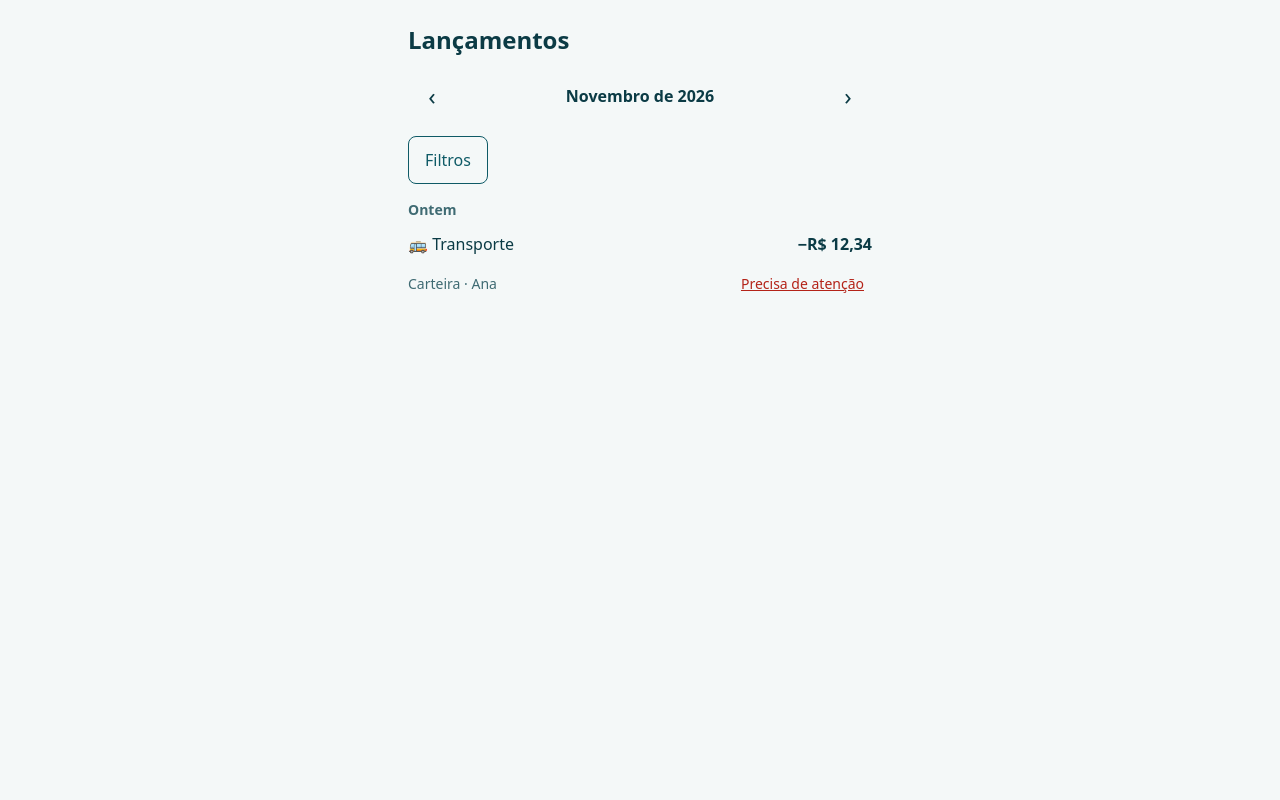
Test: TransactionsPage › discards a refused expense once confirmed
Click the button "Precisa de atenção". click: point(802, 284)
box: [733,260,872,308]
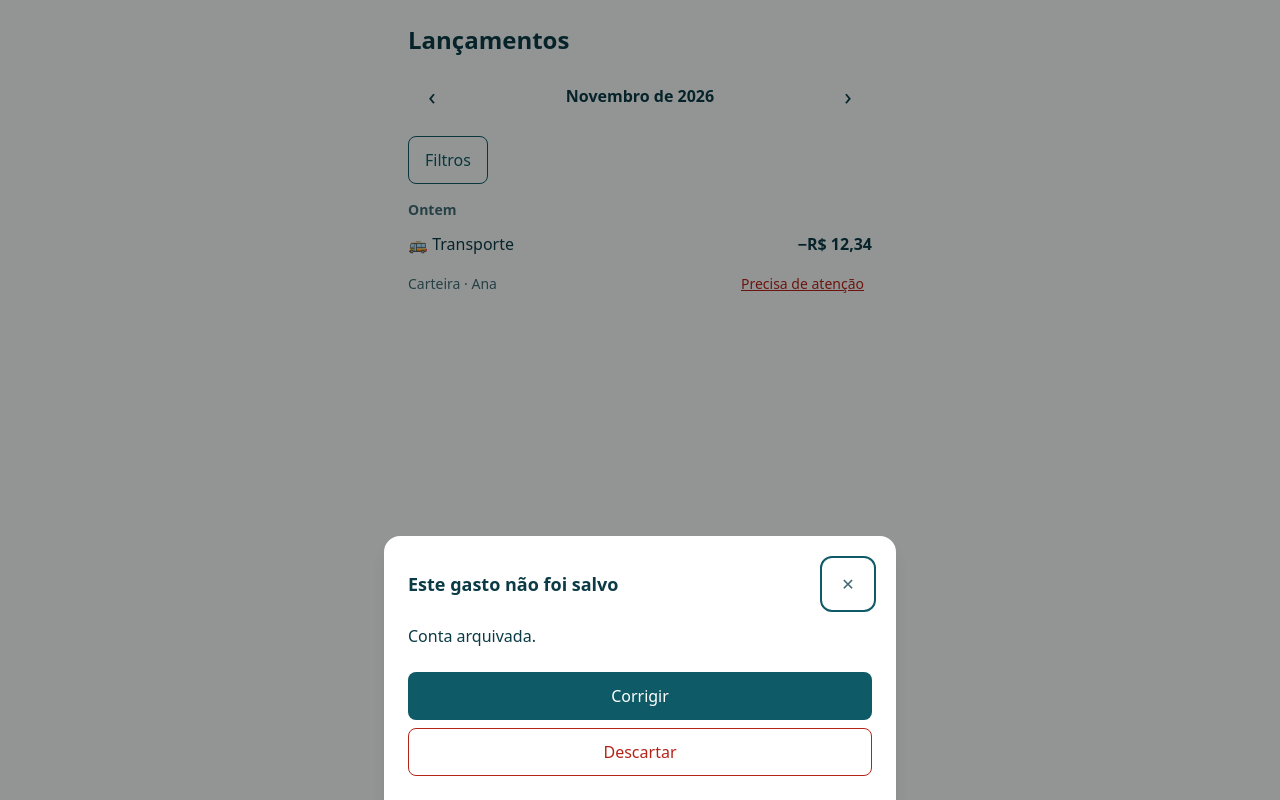
Click the button "Descartar". click: point(640, 752)
box: [408,728,872,776]
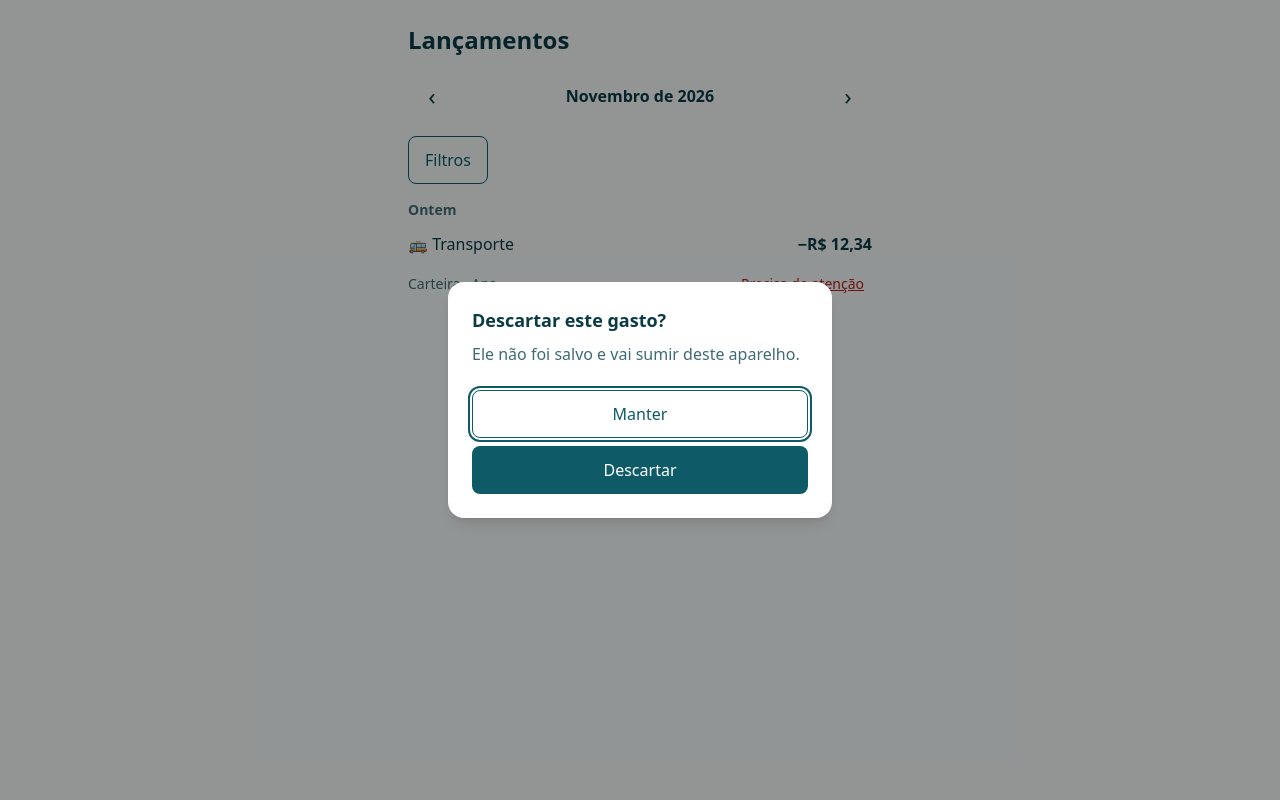
expect the text "Ele não foi salvo e vai sumir deste aparelho." is shown: met, box [472,342,808,366]
Click the button "Descartar". click: point(640, 470)
box: [472,446,808,494]
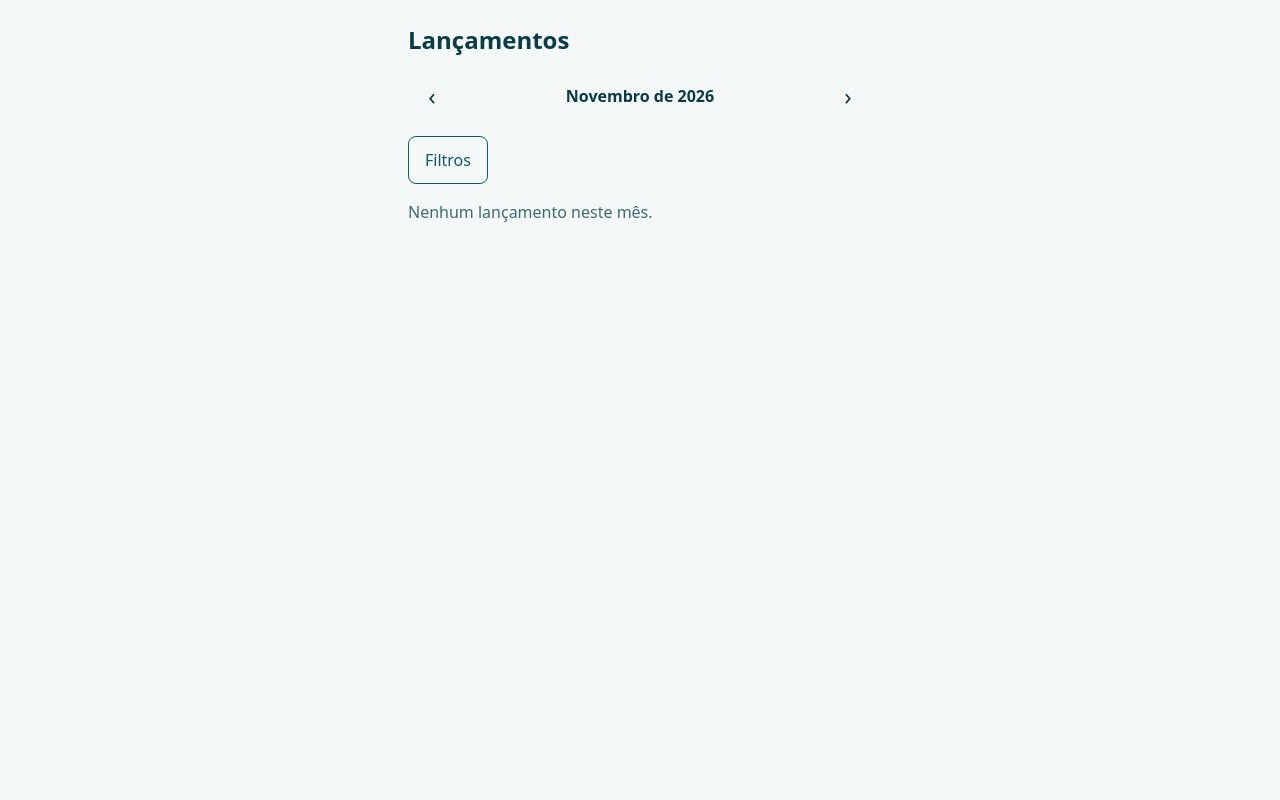
expect the text "🚌 Transporte" is gone: met
